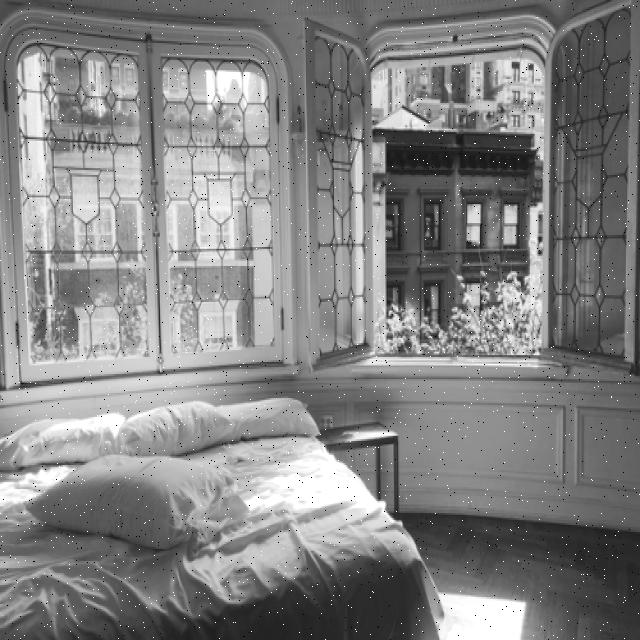bed: (0, 395, 435, 640)
